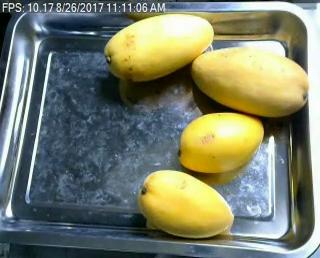Mango: (186, 43, 307, 117), (101, 10, 214, 86), (135, 165, 235, 243), (171, 107, 264, 178)
